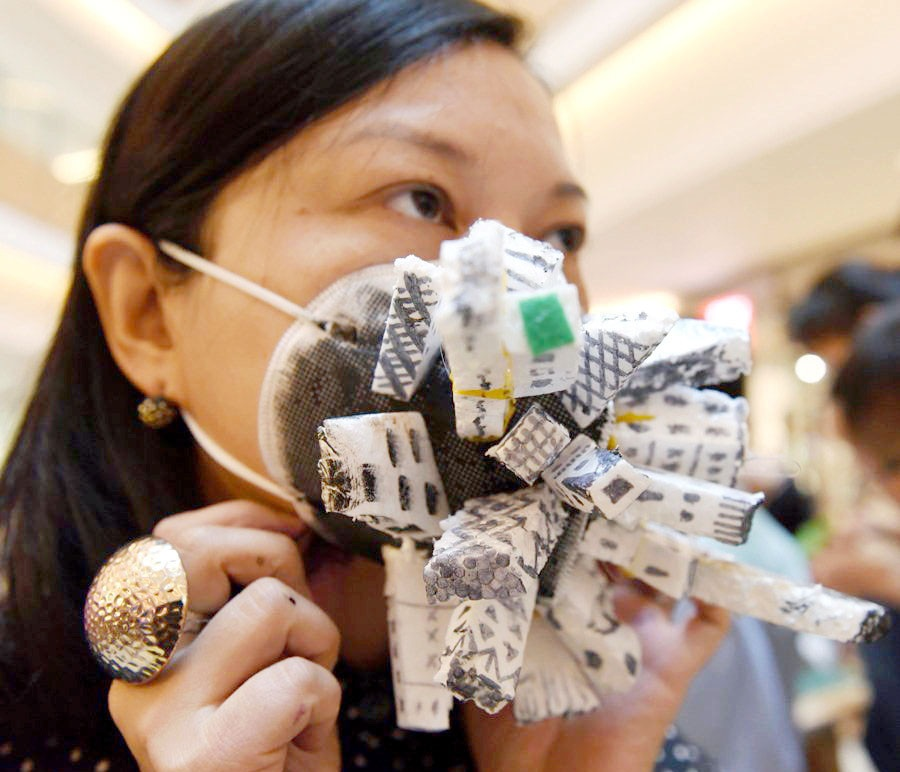face_mask: (211, 51, 601, 493)
